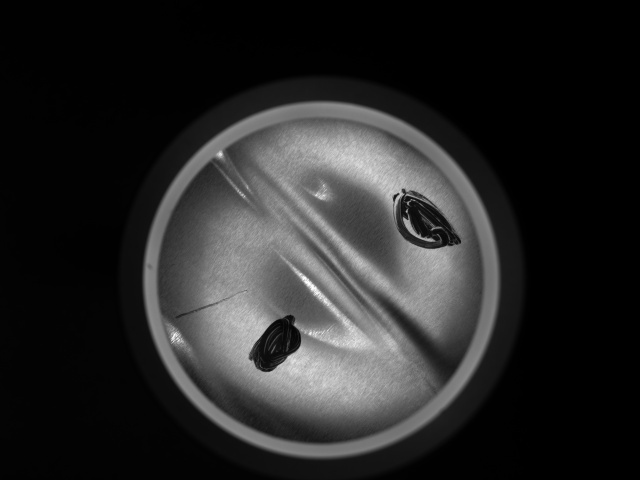ca_shang: (168, 286, 252, 320)
zang_wu: (388, 186, 459, 252), (248, 306, 310, 378)
zhe_zhou: (205, 143, 441, 419)
